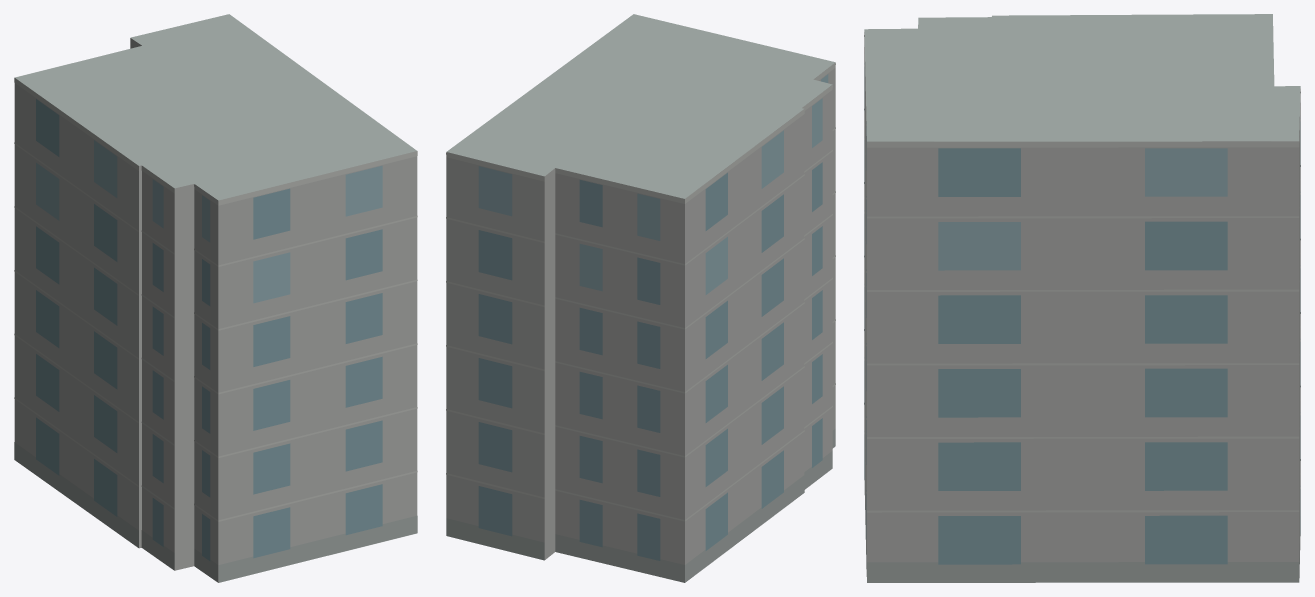
Rendered from survey-upis-32809263.glb.
3 renders of one model, left to right at view 1: azimuth 30°, elevation 25°; view 2: azimuth 150°, elevation 25°; view 3: azimuth 270°, elevation 25°, orthographic. The views are drawn at different scales.
Visible parts, largest first — view 1: survey-upis-32809263.tmp; view 2: survey-upis-32809263.tmp; view 3: survey-upis-32809263.tmp.
Part boxes in pixels (left/top/right/bottom): survey-upis-32809263.tmp: left=14, top=14, right=417, bottom=582; survey-upis-32809263.tmp: left=446, top=14, right=835, bottom=582; survey-upis-32809263.tmp: left=864, top=14, right=1300, bottom=582.
Bounding box in the file's own units: 11.27 × 18.1 × 16.25.
